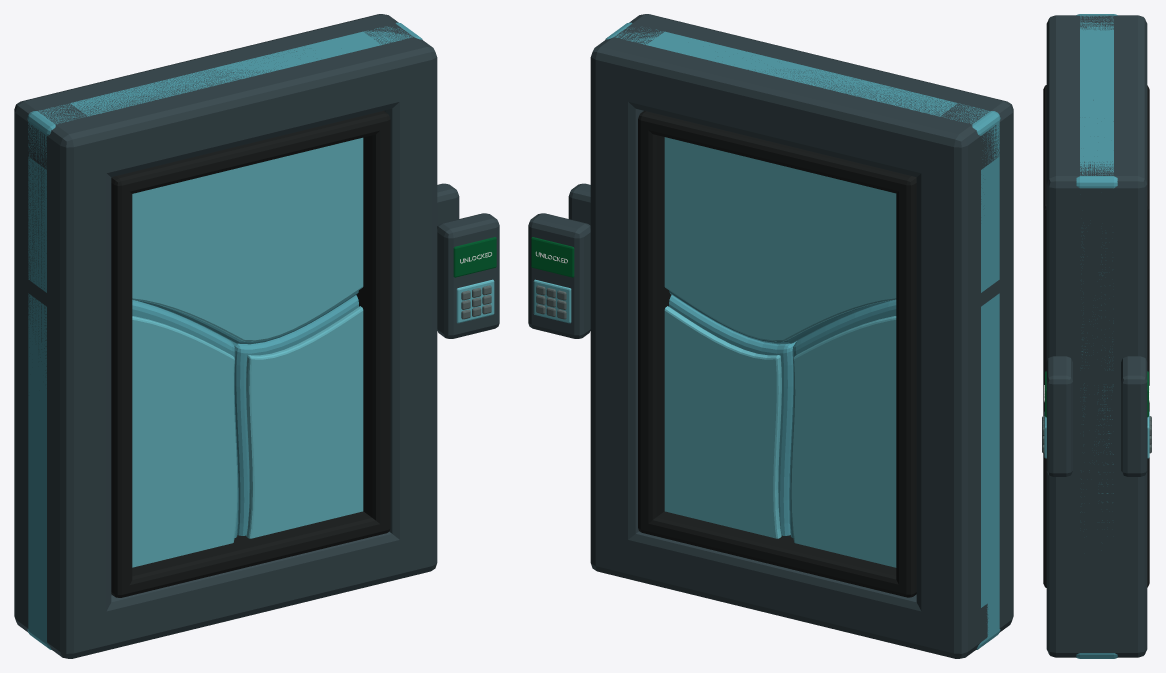
Rendered from Porte triangulaire en trois parties.glb.
3 renders of one model, left to right at view 1: azimuth 30°, elevation 25°; view 2: azimuth 150°, elevation 25°; view 3: azimuth 270°, elevation 25°, orthographic. The views are drawn at different scales.
Parts seen in each view (by area): view 1: PROPELLER_DOOR_Frame_Left, PROPELLER_DOOR_TOP_Front_Inset_Curved_Blade_Face, PROPELLER_DOOR_Frame_Top, PROPELLER_DOOR_Frame_Right, PROPELLER_DOOR_LOWER_LEFT_Front_Inset_Curved_Blade_Face, PROPELLER_DOOR_LOWER_RIGHT_Front_Inset_Curved_Blade_Face, PROPELLER_DOOR_Frame_Bottom_Threshold, PROPELLER_DOOR_Inner_Rubber_Seal_Right, PROPELLER_DOOR_TOP_Rounded_Triangular_Blade, PROPELLER_DOOR_Inner_Rubber_Seal_Left, PROPELLER_DOOR_LOWER_LEFT_Rounded_Triangular_Blade, PROPELLER_DOOR_Inner_Rubber_Seal_Bottom (+6 smaller); view 2: PROPELLER_DOOR_Frame_Left, PROPELLER_DOOR_TOP_Back_Inset_Curved_Blade_Face, PROPELLER_DOOR_Frame_Top, PROPELLER_DOOR_Frame_Right, PROPELLER_DOOR_LOWER_LEFT_Back_Inset_Curved_Blade_Face, PROPELLER_DOOR_LOWER_RIGHT_Back_Inset_Curved_Blade_Face, PROPELLER_DOOR_Frame_Bottom_Threshold, PROPELLER_DOOR_Inner_Rubber_Seal_Right, PROPELLER_DOOR_TOP_Rounded_Triangular_Blade, PROPELLER_DOOR_Inner_Rubber_Seal_Left, PROPELLER_DOOR_LOWER_LEFT_Rounded_Triangular_Blade, PROPELLER_DOOR_Inner_Rubber_Seal_Bottom (+6 smaller); view 3: PROPELLER_DOOR_Frame_Right, PROPELLER_DOOR_Frame_Top, PROPELLER_DOOR_TOP_Rounded_Triangular_Blade, PROPELLER_DOOR_Back_Electronic_Control_Block, PROPELLER_DOOR_Front_Electronic_Control_Block, PROPELLER_DOOR_Frame_Bottom_Threshold, PROPELLER_DOOR_Inner_Rubber_Seal_Right, PROPELLER_DOOR_Frame_Left, PROPELLER_DOOR_Inner_Rubber_Seal_Top, PROPELLER_DOOR_LOWER_RIGHT_Rounded_Triangular_Blade.
Boxes of the visible parts, <box> form: PROPELLER_DOOR_Frame_Left: <box>14,93,111,658</box>; PROPELLER_DOOR_TOP_Front_Inset_Curved_Blade_Face: <box>132,137,363,341</box>; PROPELLER_DOOR_Frame_Top: <box>15,14,437,180</box>; PROPELLER_DOOR_Frame_Right: <box>350,14,437,579</box>; PROPELLER_DOOR_LOWER_LEFT_Front_Inset_Curved_Blade_Face: <box>132,316,237,567</box>; PROPELLER_DOOR_LOWER_RIGHT_Front_Inset_Curved_Blade_Face: <box>246,306,363,538</box>; PROPELLER_DOOR_Frame_Bottom_Threshold: <box>15,529,437,657</box>; PROPELLER_DOOR_Inner_Rubber_Seal_Right: <box>356,110,390,534</box>; PROPELLER_DOOR_TOP_Rounded_Triangular_Blade: <box>27,22,422,344</box>; PROPELLER_DOOR_Inner_Rubber_Seal_Left: <box>111,174,132,597</box>; PROPELLER_DOOR_LOWER_LEFT_Rounded_Triangular_Blade: <box>27,293,238,649</box>; PROPELLER_DOOR_Inner_Rubber_Seal_Bottom: <box>111,511,389,597</box>; PROPELLER_DOOR_Frame_Left: <box>916,93,1013,658</box>; PROPELLER_DOOR_TOP_Back_Inset_Curved_Blade_Face: <box>664,137,896,341</box>; PROPELLER_DOOR_Frame_Top: <box>591,14,1012,181</box>; PROPELLER_DOOR_Frame_Right: <box>590,14,677,579</box>; PROPELLER_DOOR_LOWER_LEFT_Back_Inset_Curved_Blade_Face: <box>790,316,896,567</box>; PROPELLER_DOOR_LOWER_RIGHT_Back_Inset_Curved_Blade_Face: <box>664,306,781,538</box>; PROPELLER_DOOR_Frame_Bottom_Threshold: <box>590,530,1012,657</box>; PROPELLER_DOOR_Inner_Rubber_Seal_Right: <box>638,110,671,534</box>; PROPELLER_DOOR_TOP_Rounded_Triangular_Blade: <box>605,22,1000,344</box>; PROPELLER_DOOR_Inner_Rubber_Seal_Left: <box>896,174,916,597</box>; PROPELLER_DOOR_LOWER_LEFT_Rounded_Triangular_Blade: <box>789,293,1000,649</box>; PROPELLER_DOOR_Inner_Rubber_Seal_Bottom: <box>638,511,916,597</box>; PROPELLER_DOOR_Frame_Right: <box>1046,161,1147,656</box>; PROPELLER_DOOR_Frame_Top: <box>1046,15,1147,219</box>; PROPELLER_DOOR_TOP_Rounded_Triangular_Blade: <box>1076,14,1117,370</box>; PROPELLER_DOOR_Back_Electronic_Control_Block: <box>1121,356,1147,476</box>; PROPELLER_DOOR_Front_Electronic_Control_Block: <box>1046,356,1072,476</box>; PROPELLER_DOOR_Frame_Bottom_Threshold: <box>1046,621,1141,657</box>; PROPELLER_DOOR_Inner_Rubber_Seal_Right: <box>1043,201,1149,578</box>; PROPELLER_DOOR_Frame_Left: <box>1046,15,1147,37</box>; PROPELLER_DOOR_Inner_Rubber_Seal_Top: <box>1043,88,1149,217</box>; PROPELLER_DOOR_LOWER_RIGHT_Rounded_Triangular_Blade: <box>1076,383,1117,658</box>.
Bounding box in the file's own units: 1.74 × 2 × 0.414.
